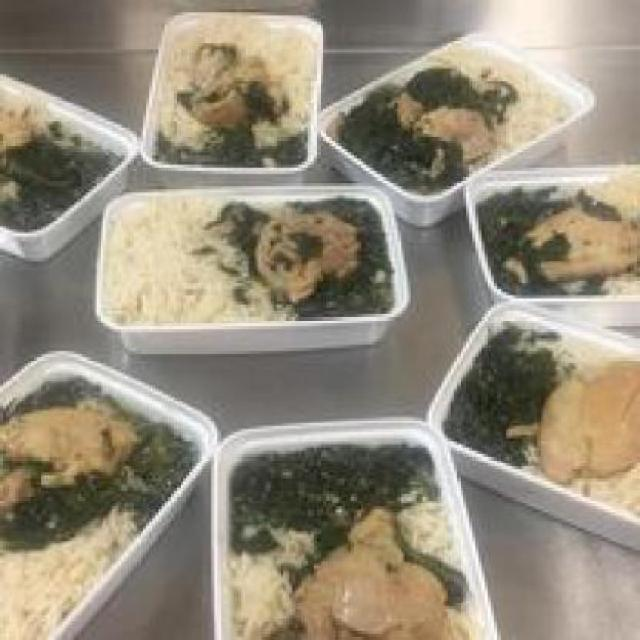fried rice: (211, 512, 478, 637), (555, 326, 637, 519), (444, 34, 584, 143), (105, 195, 227, 320), (152, 12, 314, 97), (590, 168, 638, 292)
molokhia: (326, 65, 497, 190), (227, 189, 391, 314), (214, 432, 432, 522), (431, 305, 547, 460), (482, 174, 584, 295), (156, 100, 304, 166)
